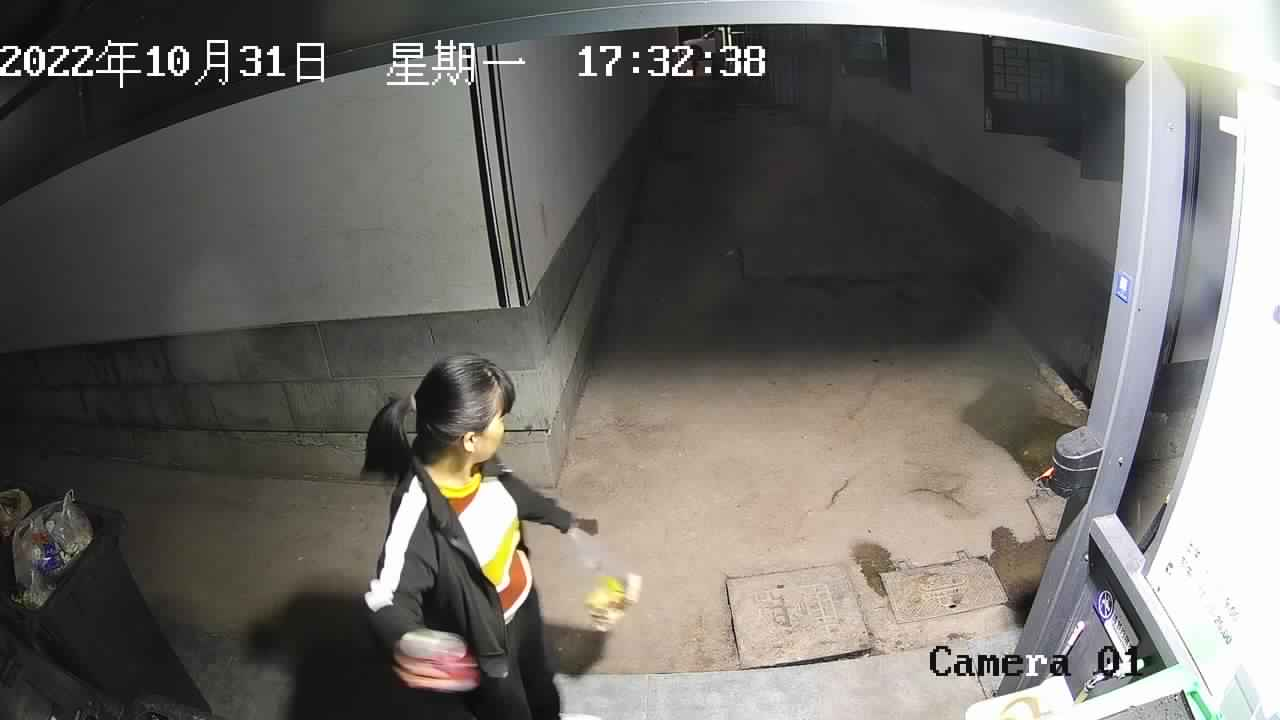garbage-bag: (561, 519, 646, 635)
person: (357, 349, 601, 720)
